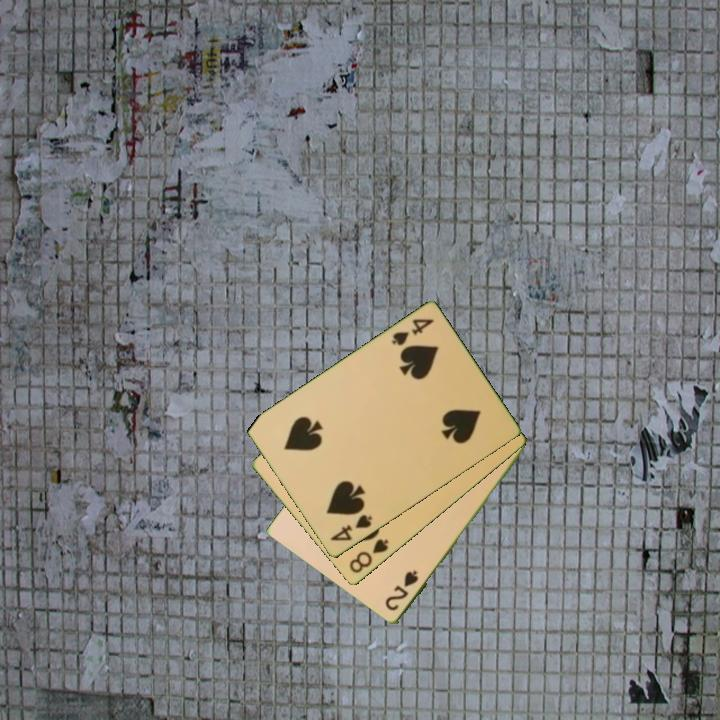2s: (382, 567, 421, 614)
4s: (388, 315, 437, 349), (326, 511, 375, 544)
8s: (345, 535, 391, 576)
